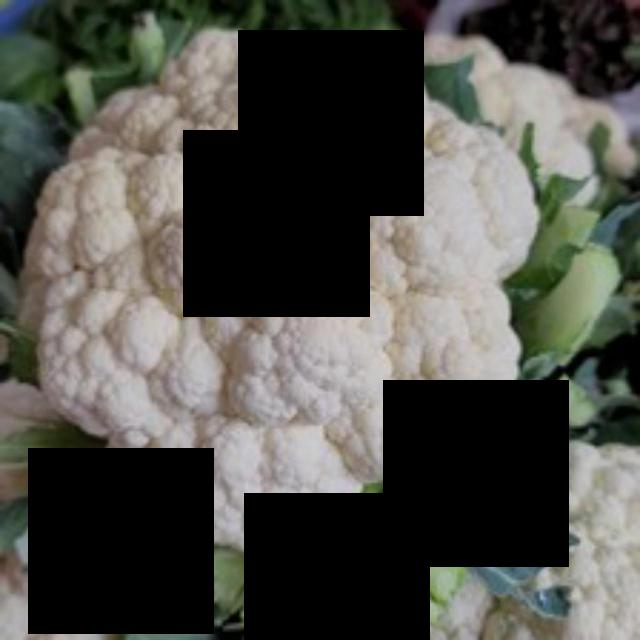cauliflower: (20, 20, 541, 563)
